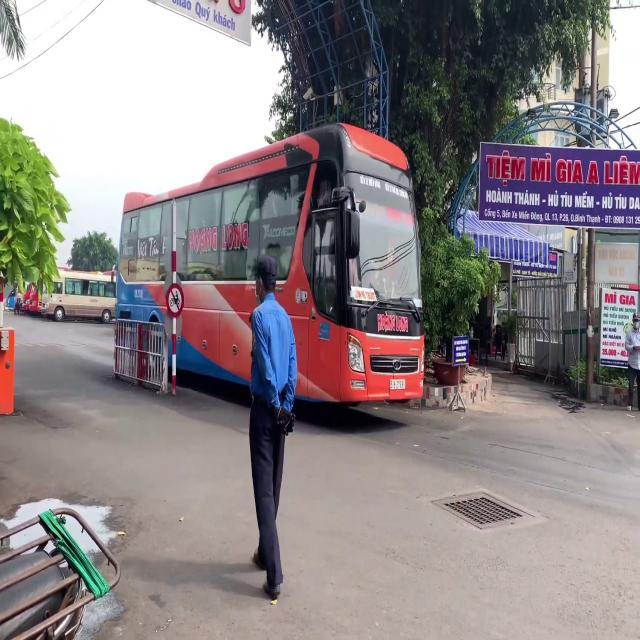bien_trang: (390, 378, 406, 389)
